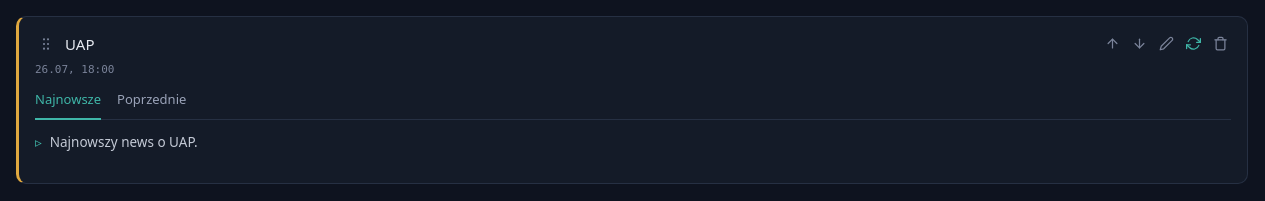
Test case: BoxCard › przełącza zakładkę na poprzedni snapshot
Click the tab "Poprzednie". click: x=152, y=105
box: [117, 90, 186, 120]
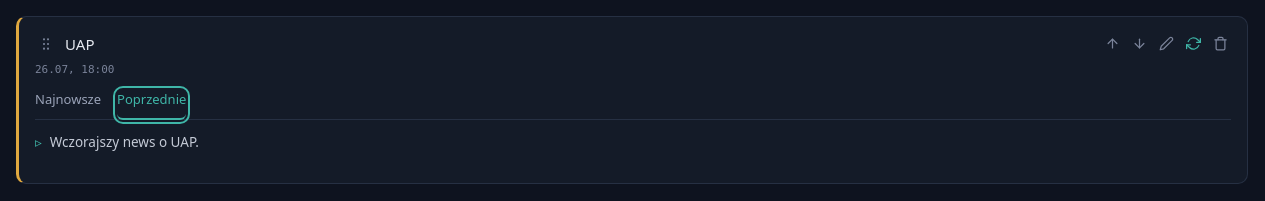
Expected: the text "Wczorajszy news o UAP." is shown, [50, 132, 199, 156]
Expected: the text "Najnowszy news o UAP." is gone
